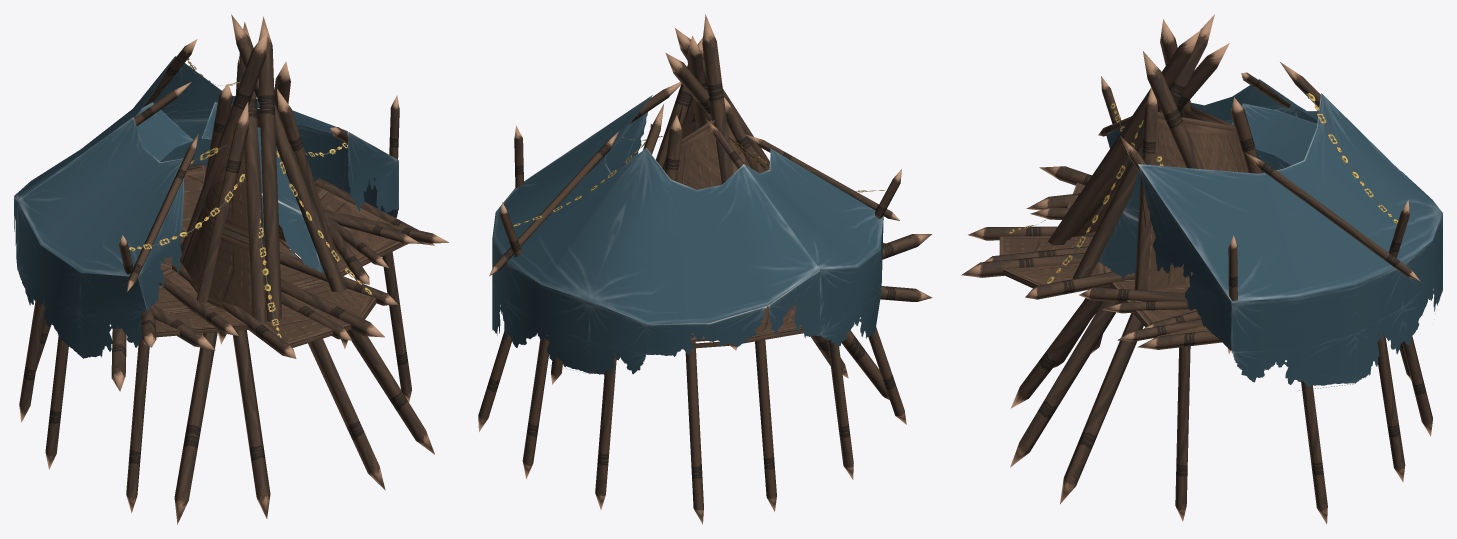
Rendered from structures_GoblinMerchant_01.fbx.
3 renders of one model, left to right at view 1: azimuth 30°, elevation 25°; view 2: azimuth 150°, elevation 25°; view 3: azimuth 270°, elevation 25°, orthographic. The views are drawn at different scales.
Parts seen in each view (by area): view 1: structures_GoblinMerchant_01; view 2: structures_GoblinMerchant_01; view 3: structures_GoblinMerchant_01.
Part boxes in pixels (x1,y1,x2,y2): structures_GoblinMerchant_01: [14, 14, 448, 524]; structures_GoblinMerchant_01: [478, 14, 932, 524]; structures_GoblinMerchant_01: [961, 14, 1442, 524].
Bounding box in the file's own units: 2.23 × 2.49 × 2.54.
Materials: 1 (1 with a texture image).
